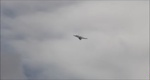maybay_muctieu: (74, 33, 88, 41)
